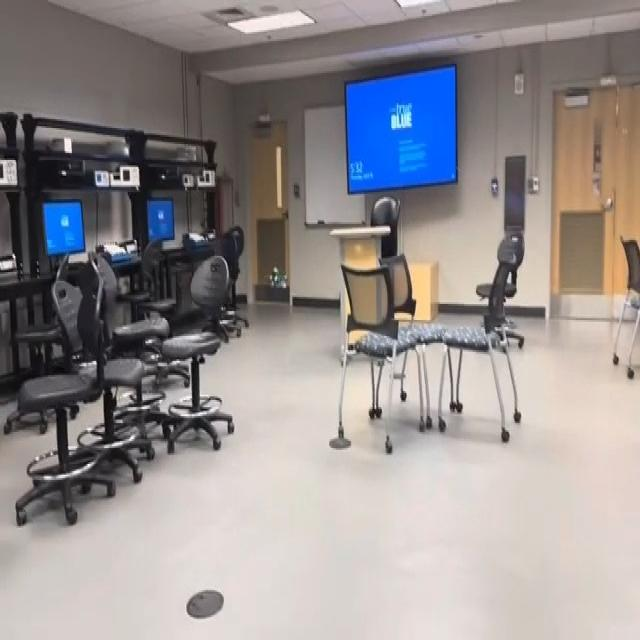drone: (259, 250, 293, 300)
